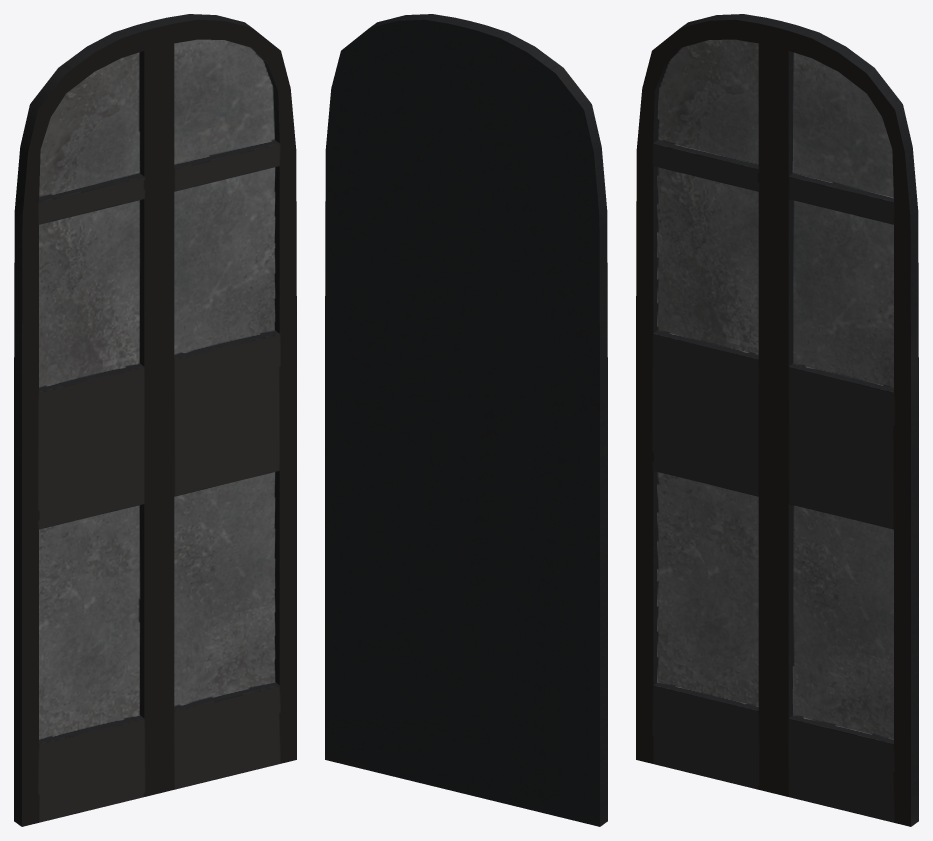
The model's file is Door_Textured.fbx.
3 renders of one model, left to right at view 1: azimuth 30°, elevation 25°; view 2: azimuth 150°, elevation 25°; view 3: azimuth 330°, elevation 25°, orthographic.
Visible parts, largest first — view 1: Door; view 2: Door; view 3: Door.
Part boxes in pixels (x1,y1,x2,y2): Door: (14,14,296,826); Door: (325,14,607,826); Door: (636,14,918,826).
Bounding box in the file's own units: 3.42 × 9.11 × 0.1694.
1 material, 1 textured.
